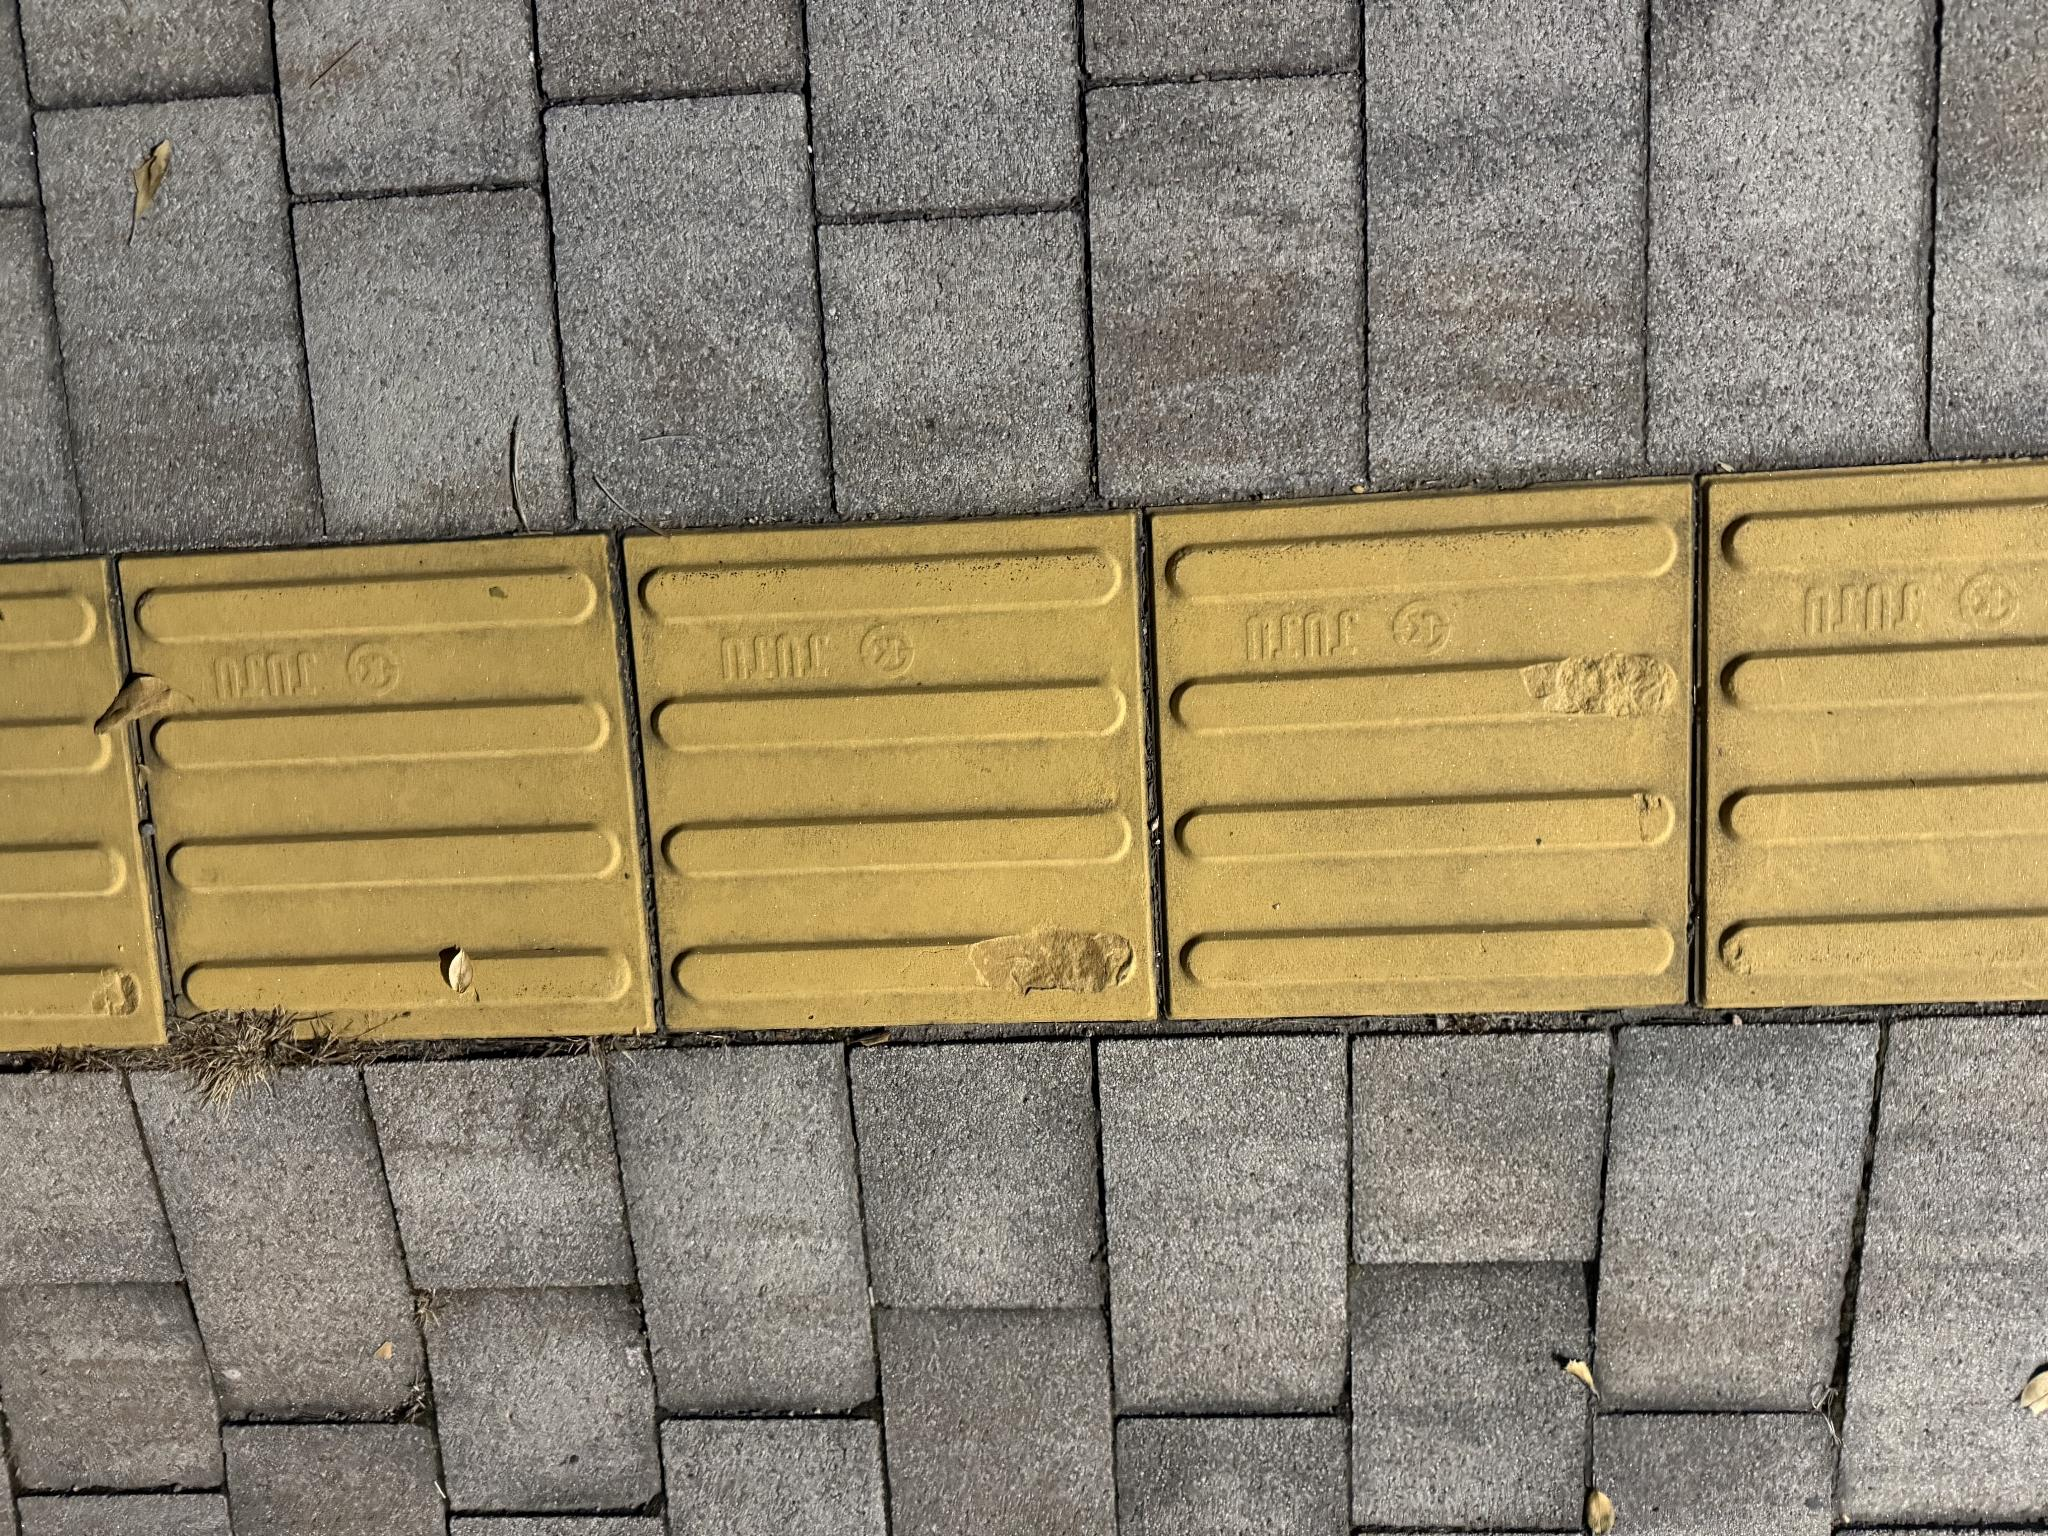Straight block normal: (502, 124, 1003, 650)
